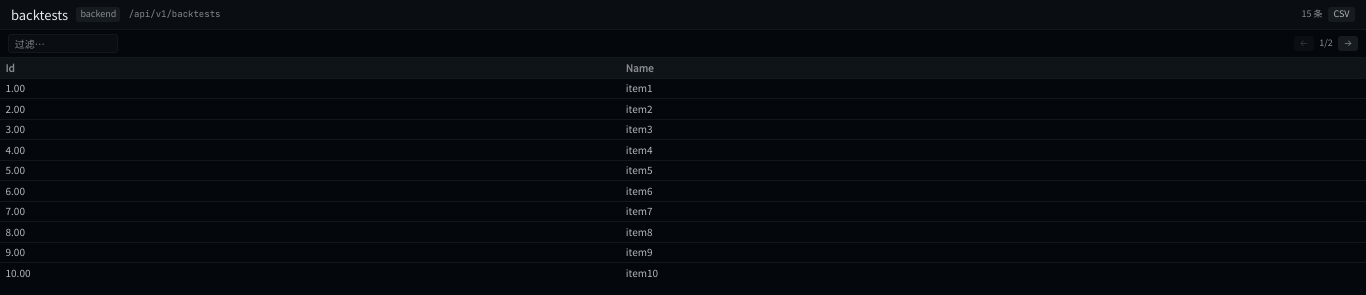
Scenario: DataTablePage(列表页) › 分页:每页 10 条,下一页显示后续行
The width and height of the screenshot is (1366, 295).
Expected: the text "item1" is shown, [620, 78, 1365, 99]
Expected: the text "item11" is not shown
Click the button "→". click: (1348, 44)
box: [1338, 36, 1358, 51]
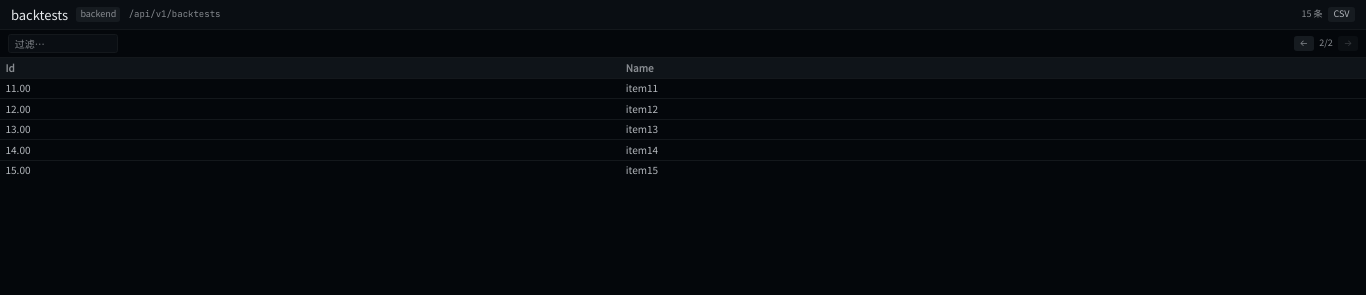
Now the text "item11" is shown, box [620, 78, 1365, 99]
